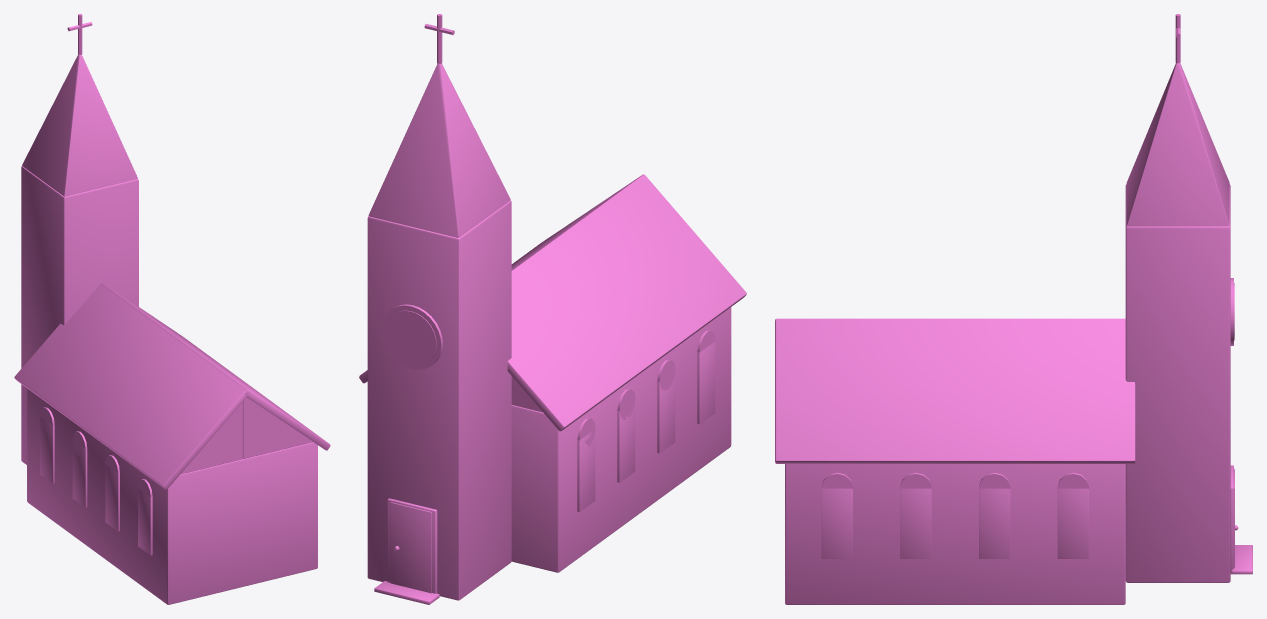
File: OldTown_Church.fbx
3 renders of one model, left to right at view 1: azimuth 30°, elevation 25°; view 2: azimuth 150°, elevation 25°; view 3: azimuth 270°, elevation 25°, orthographic. The views are drawn at different scales.
Parts seen in each view (by area): view 1: Church; view 2: Church; view 3: Church.
Boxes of the visible parts, x1,y1,x2,y2 form: Church: (14, 14, 330, 604); Church: (359, 14, 746, 604); Church: (775, 14, 1252, 604).
Size of the model in its own units: 17.84 by 46.15 by 36.45.
1 material, 1 textured.
